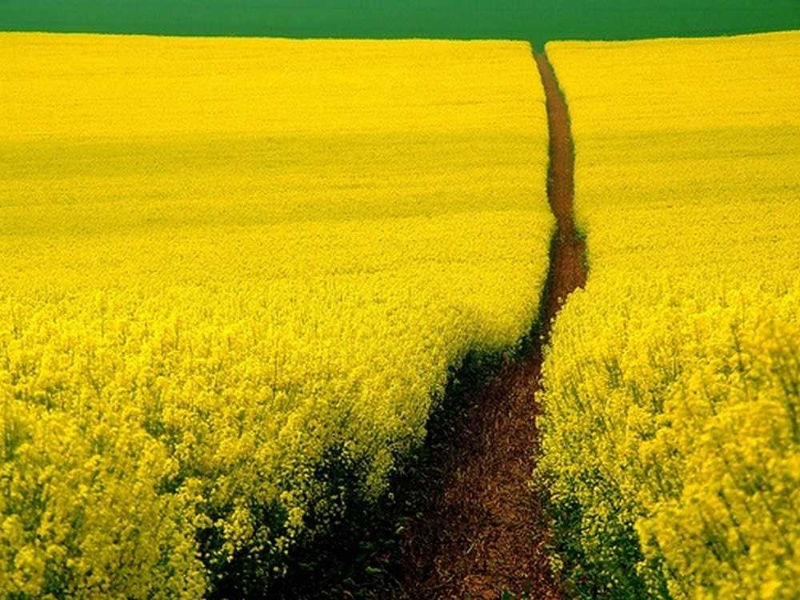mustard: (4, 42, 322, 594), (563, 42, 797, 590), (343, 45, 534, 348)
